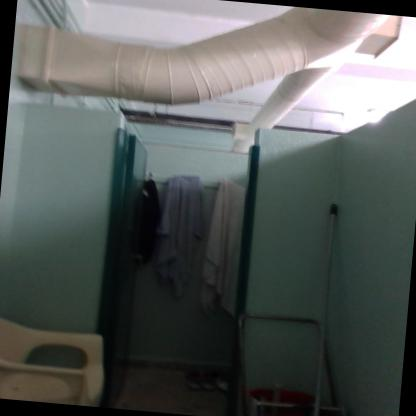open: (83, 110, 271, 401)
